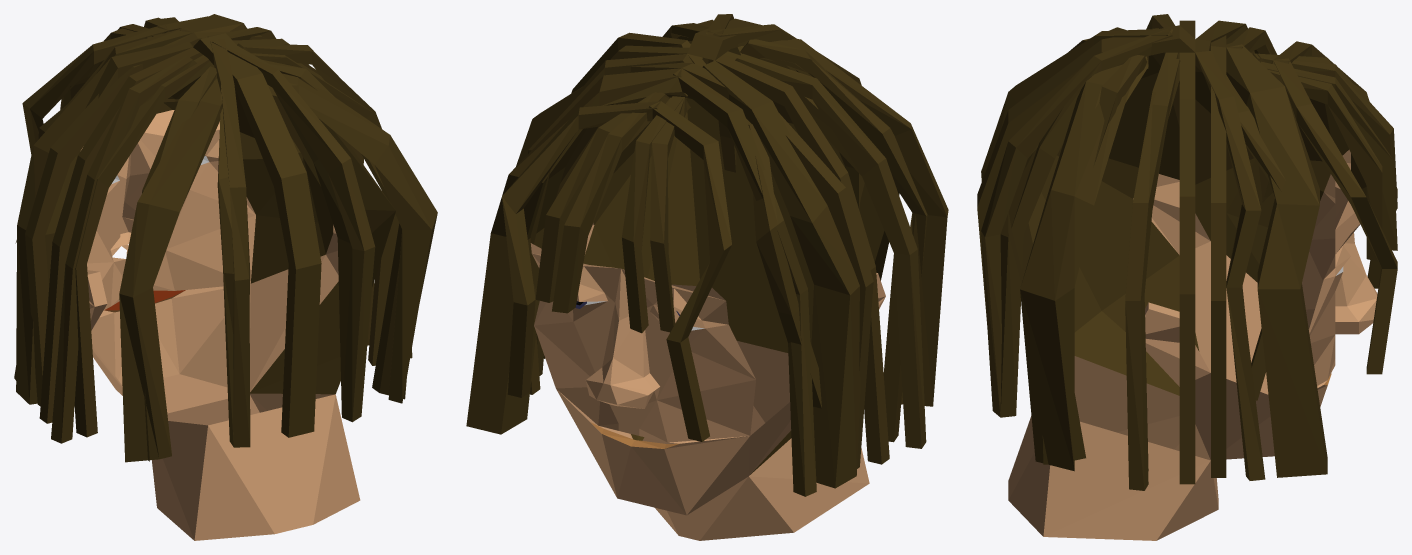
Rendered from npc_chat_trufitus_0.obj.
The picture shows the model from 3 angles, left to right: view 1: azimuth 30°, elevation 25°; view 2: azimuth 150°, elevation 25°; view 3: azimuth 270°, elevation 25°; orthographic projection. The views are drawn at different scales.
Size of the model in its own units: 0.875 by 1.05 by 0.8438.
